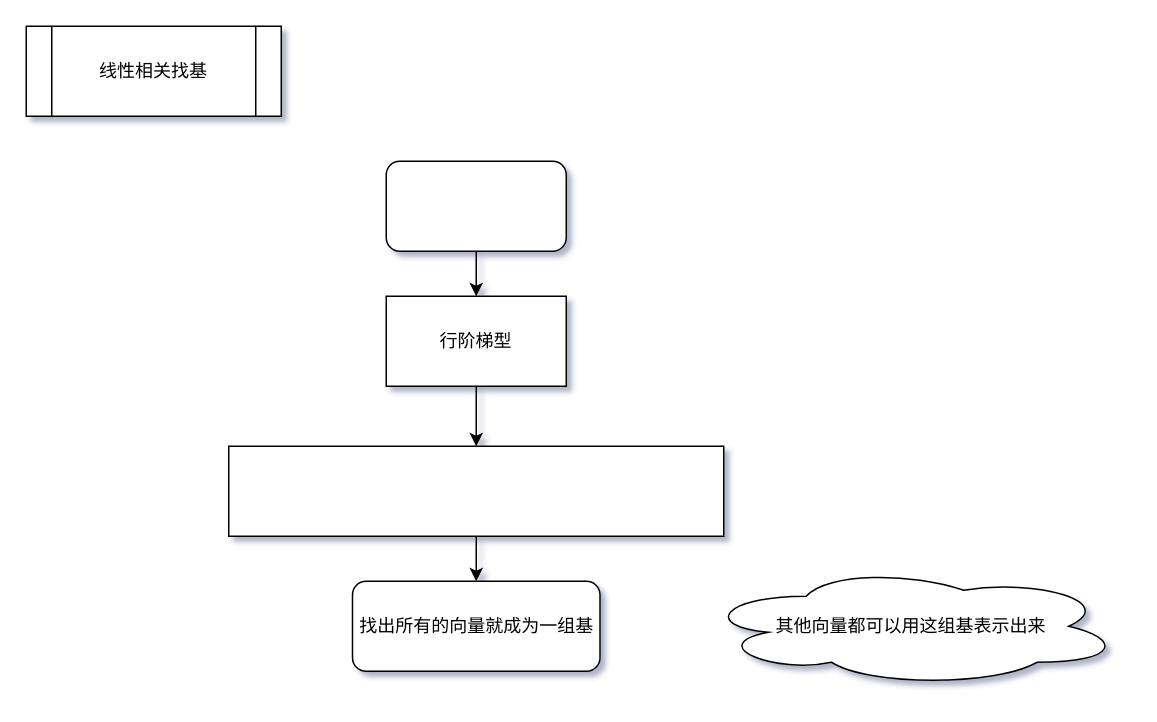
Image size: 1157x722. Some labels were removed from this diagram. Here are the shapes that lost their labels. From the top down, the centre of each, then its label:
the point at 475,205: 构造它的增广矩阵
the point at 475,490: 包含leading1的列（第几列）就是基中的其中一个向量（Vn）
